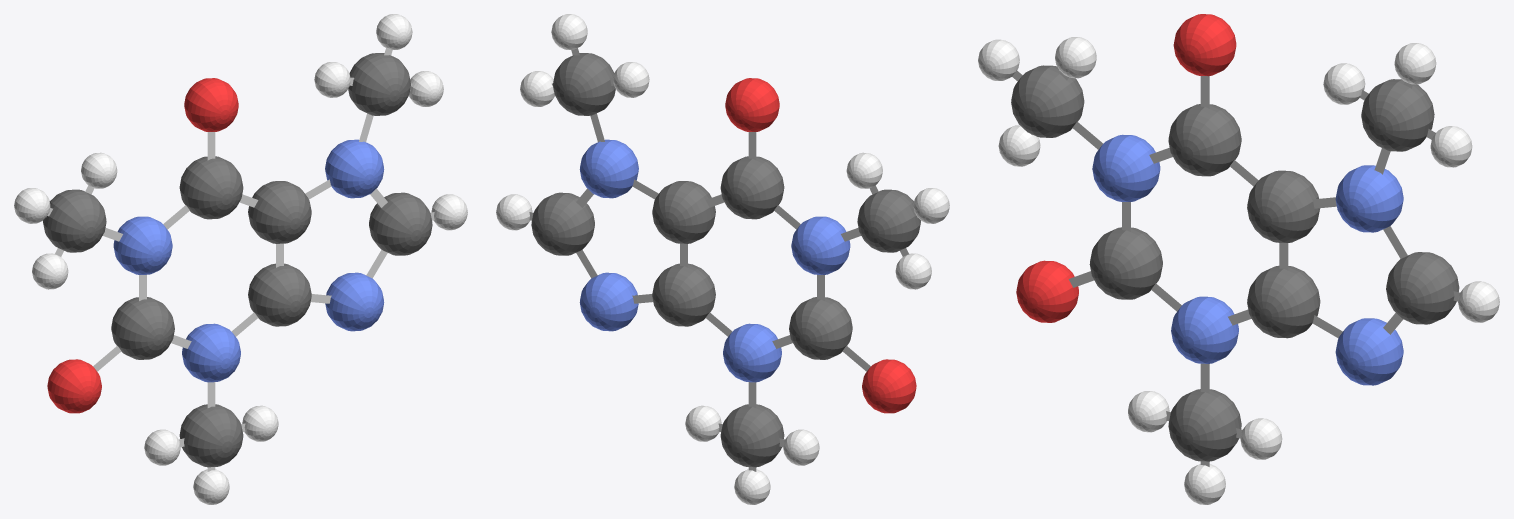
File: caffeine.glb
3 renders of one model, left to right at view 1: azimuth 30°, elevation 25°; view 2: azimuth 150°, elevation 25°; view 3: azimuth 330°, elevation 25°, orthographic. The views are drawn at different scales.
Visible parts, largest first — view 1: Node; view 2: Node; view 3: Node.
Boxes of the visible parts, x1=… form: Node: x1=14, y1=14, x2=467, y2=504; Node: x1=496, y1=14, x2=949, y2=504; Node: x1=978, y1=14, x2=1499, y2=504.
Size of the model in its own units: 5.68 by 5.36 by 0.7.
